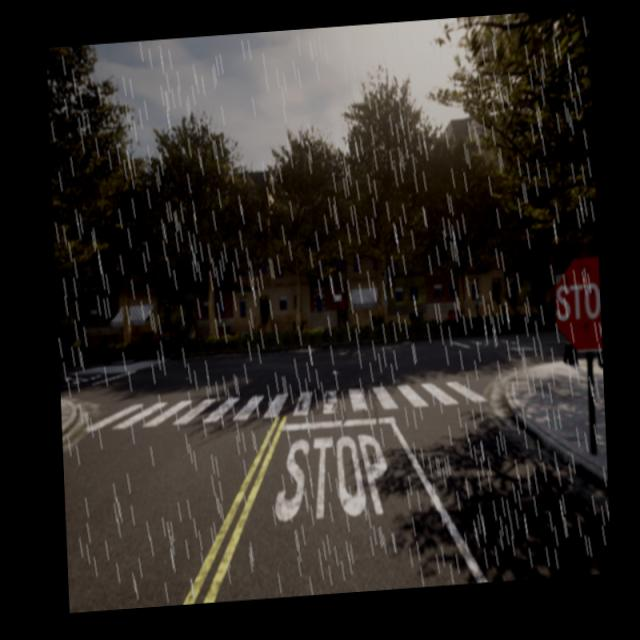stop sign: (550, 253, 605, 356)
